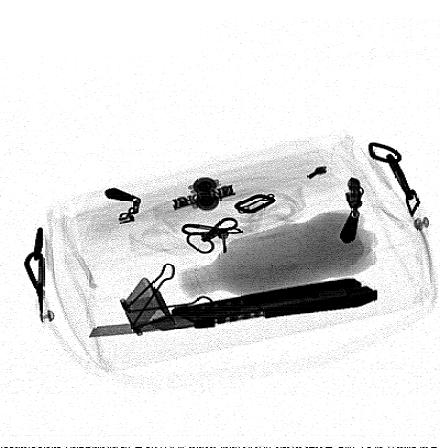Knife: (87, 277, 380, 338)
